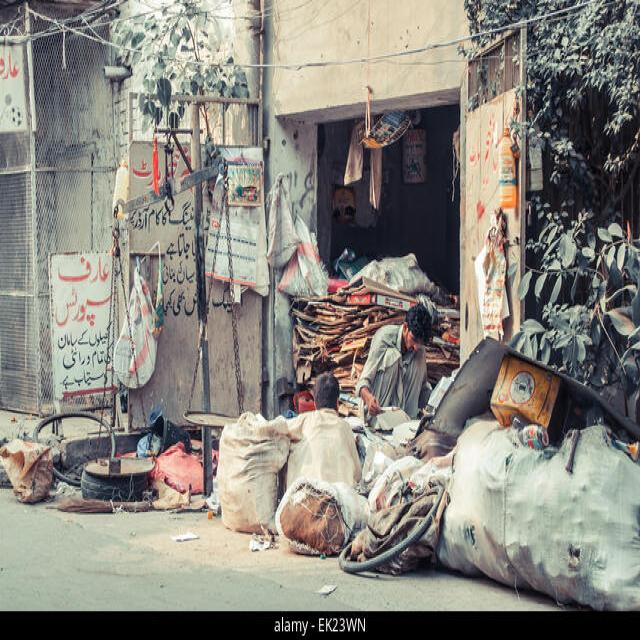cardboard: (262, 252, 414, 354)
metal: (488, 350, 572, 430)
trash: (375, 430, 620, 582), (211, 408, 293, 530), (209, 157, 268, 293), (121, 256, 164, 385), (103, 452, 200, 508), (1, 423, 58, 513)
